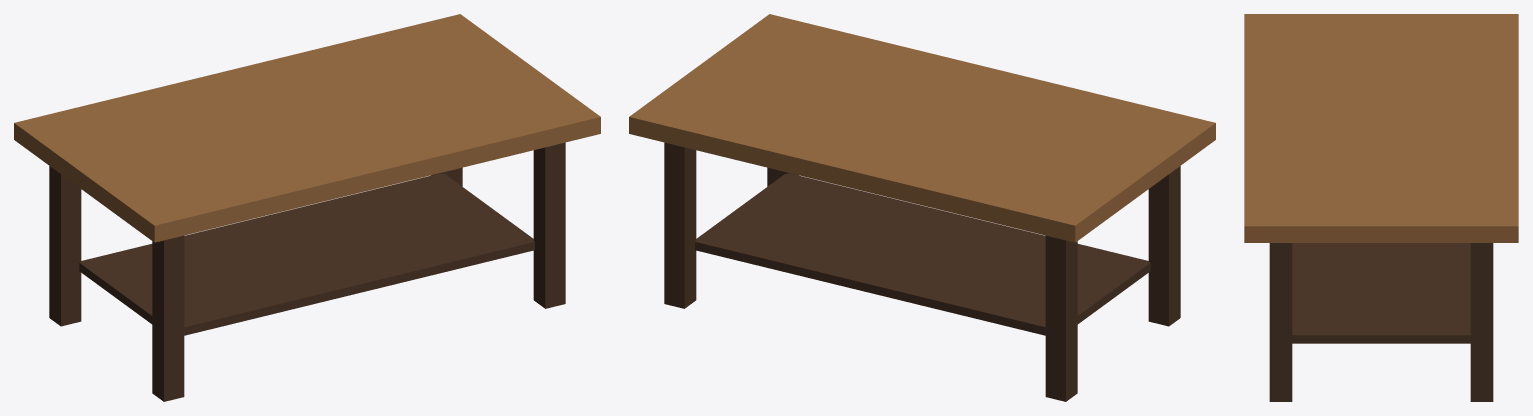
File: table.glb
3 renders of one model, left to right at view 1: azimuth 30°, elevation 25°; view 2: azimuth 150°, elevation 25°; view 3: azimuth 270°, elevation 25°, orthographic. The views are drawn at different scales.
Visible parts, largest first — view 1: table; view 2: table; view 3: table.
Part boxes in pixels (bbox=[...]): table: bbox=[14, 14, 600, 401]; table: bbox=[629, 14, 1215, 401]; table: bbox=[1244, 14, 1518, 401].
Bounding box in the file's own units: 1.1 × 0.45 × 0.6.
